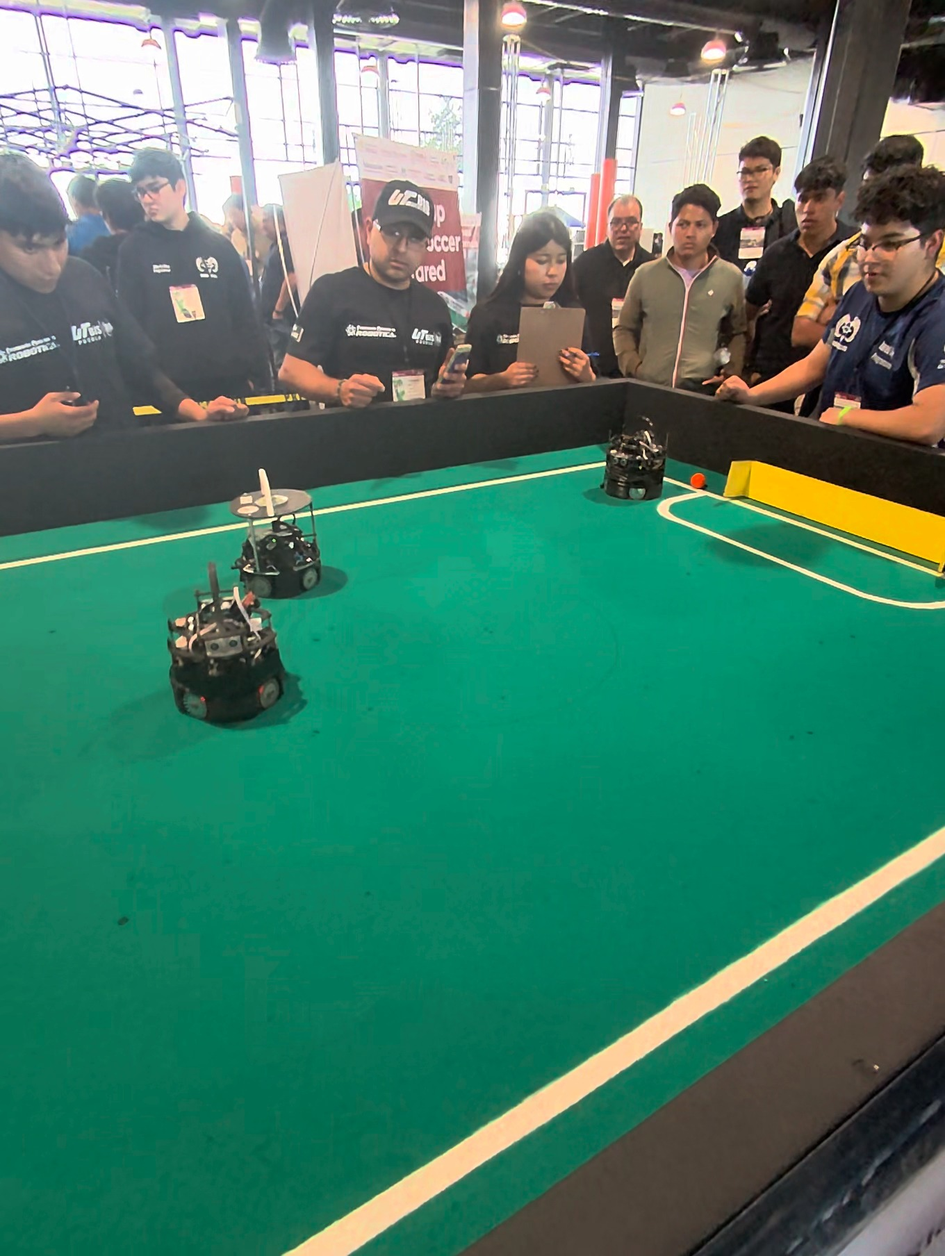Robot: (161, 577, 295, 738), (230, 471, 327, 609), (599, 413, 667, 509)
pelota: (688, 471, 723, 501)
